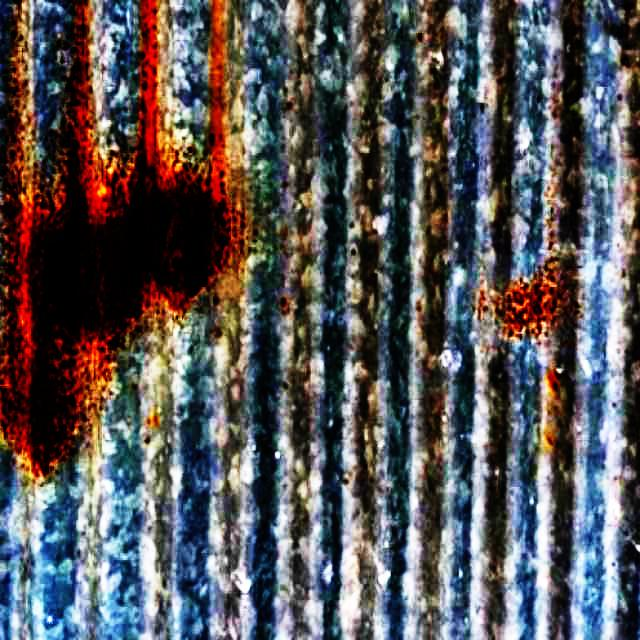Corrosion: (12, 0, 228, 327), (0, 280, 109, 476)
